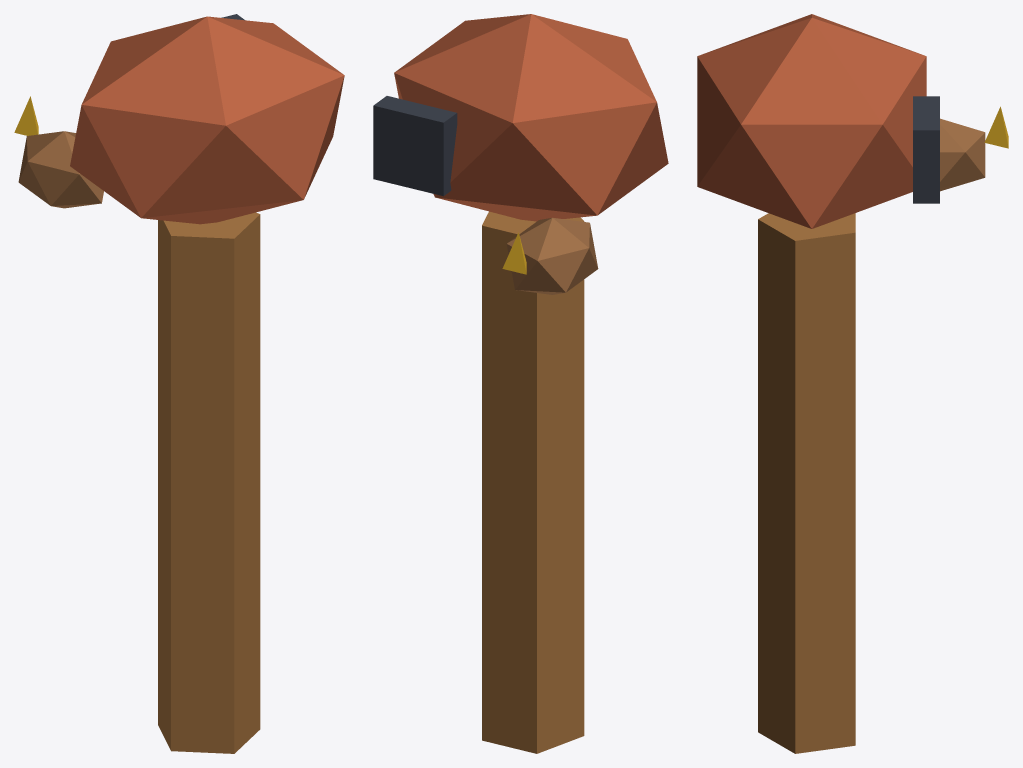
Rendered from ninho_joao_de_barro.glb.
The picture shows the model from 3 angles, left to right: view 1: azimuth 30°, elevation 25°; view 2: azimuth 150°, elevation 25°; view 3: azimuth 270°, elevation 25°; orthographic projection.
Visible parts, largest first — view 1: corpo; view 2: corpo; view 3: corpo.
Part boxes in pixels (x1,y1,x2,y2): corpo: [14, 14, 344, 753]; corpo: [373, 14, 668, 753]; corpo: [697, 14, 1008, 753].
Bounding box in the file's own units: 0.2147 × 0.585 × 0.2311.
